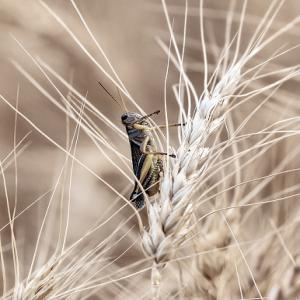locust: (83, 68, 207, 228)
